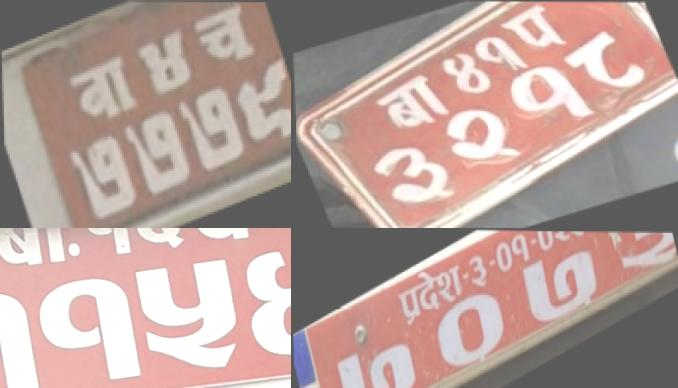0: (429, 276, 511, 381), (491, 235, 515, 276), (533, 230, 556, 257)
1: (19, 255, 157, 388), (500, 55, 593, 135), (0, 269, 61, 388), (63, 228, 142, 270), (472, 28, 526, 76), (506, 230, 533, 270)
2: (438, 98, 517, 168), (549, 230, 572, 249)
3: (365, 135, 456, 213), (609, 231, 678, 289), (464, 248, 493, 295), (564, 231, 589, 244)
4: (221, 228, 291, 374), (128, 21, 201, 104), (439, 47, 494, 96)
5: (114, 234, 263, 388)
6: (116, 228, 192, 259)
7: (517, 230, 604, 336), (60, 123, 143, 228), (171, 78, 252, 182), (115, 102, 198, 203), (332, 315, 421, 388)
8: (557, 25, 645, 97)
9: (223, 52, 291, 157)
ba: (62, 49, 143, 132), (368, 67, 456, 136), (0, 228, 81, 286)
cha: (185, 2, 261, 80), (173, 228, 271, 258)
pa: (495, 1, 568, 56)
